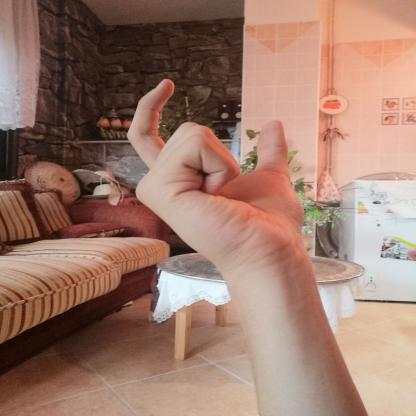NOON: (109, 69, 321, 276)
